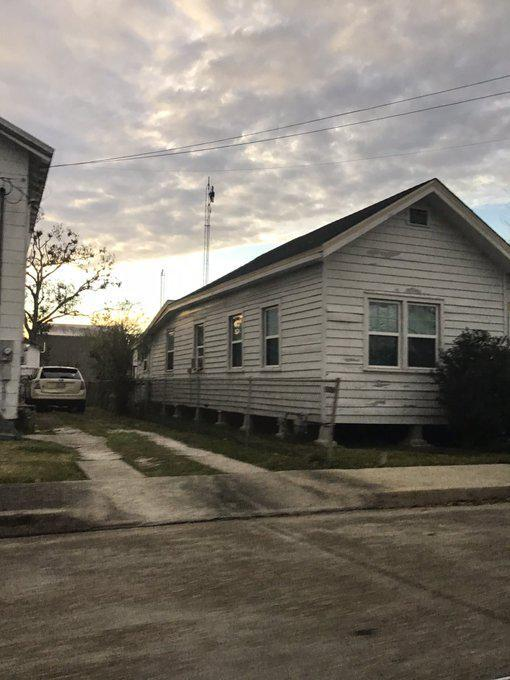minor: (128, 169, 510, 462)
